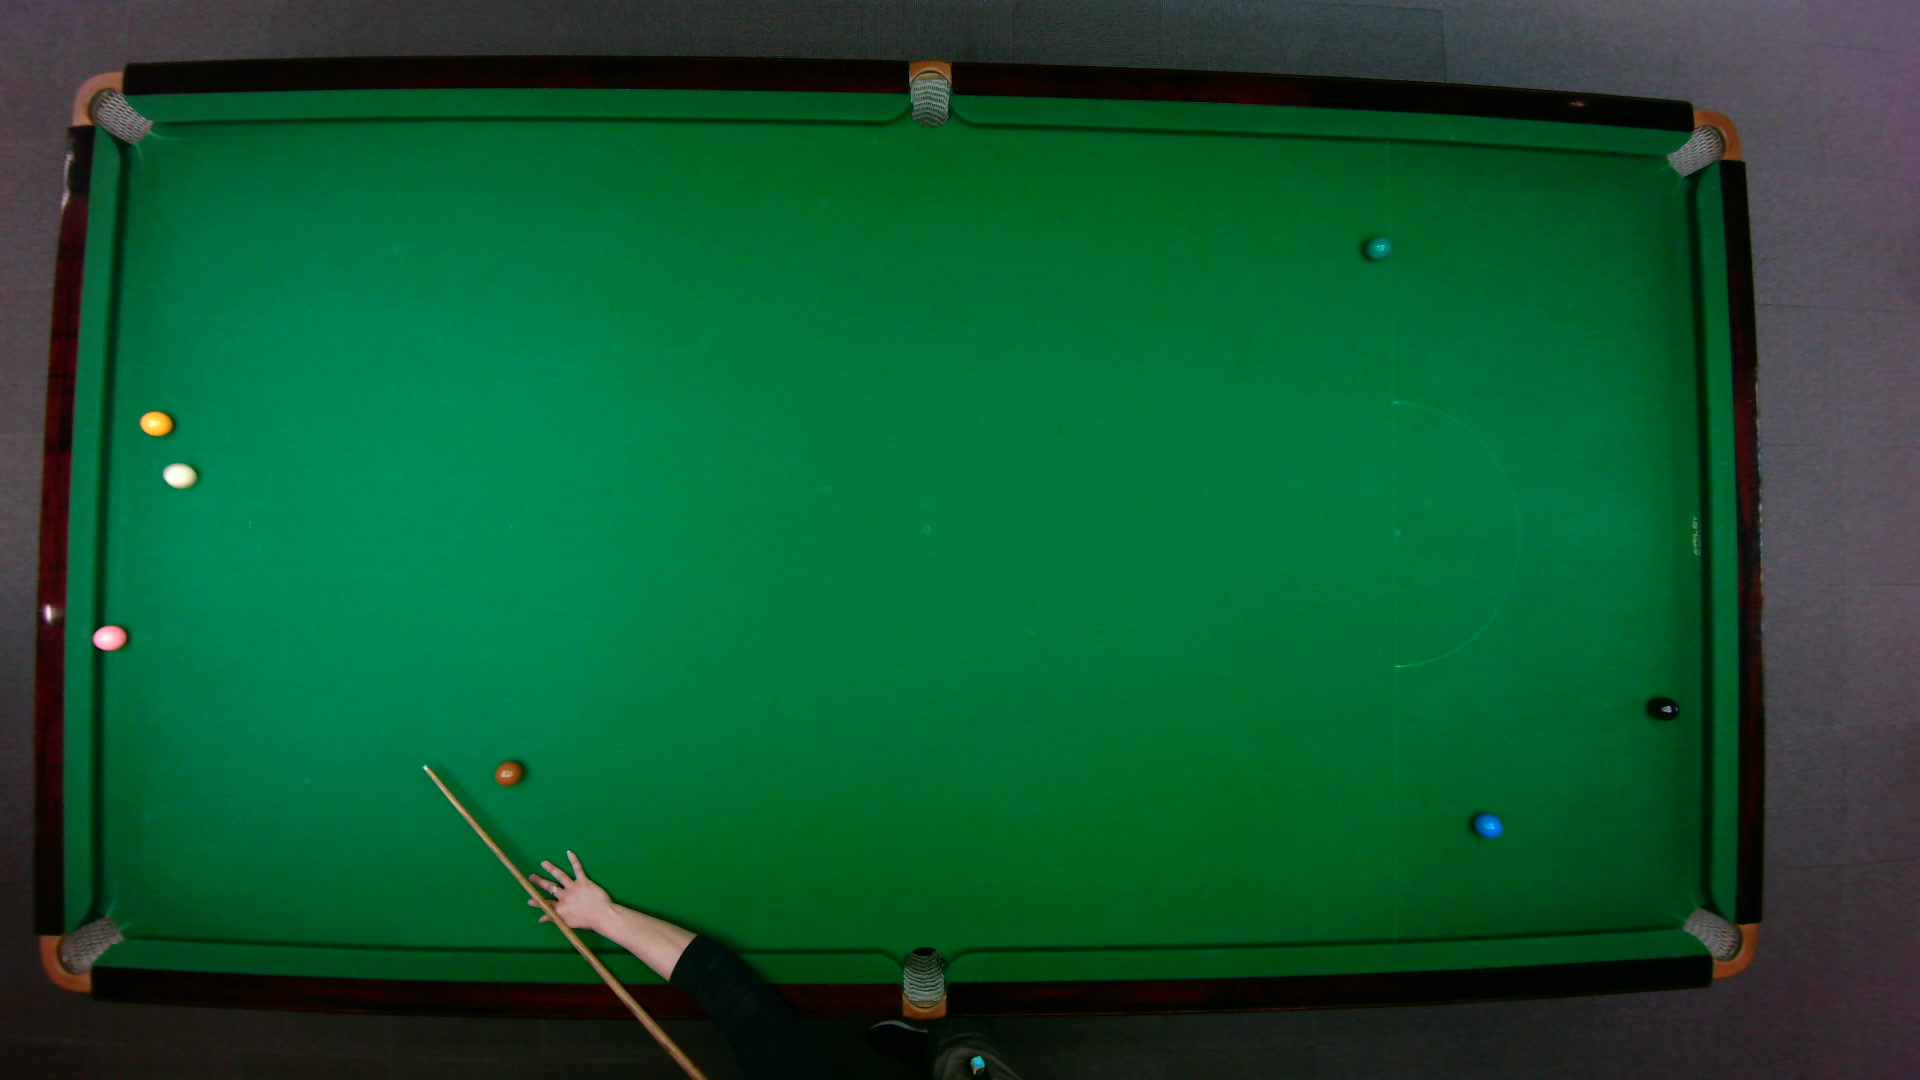bag: (37, 914, 125, 992), (69, 69, 152, 145), (1679, 905, 1756, 978), (1663, 107, 1741, 178), (901, 944, 944, 1021), (909, 57, 949, 128)
black: (1651, 695, 1679, 720)
blue: (1472, 811, 1505, 839)
brown: (493, 760, 524, 786)
cue: (419, 760, 702, 1079)
green: (1364, 233, 1391, 260)
pink: (90, 622, 128, 651)
white: (160, 460, 198, 489)
yellow: (138, 407, 174, 436)
zone: (1390, 400, 1519, 669)
